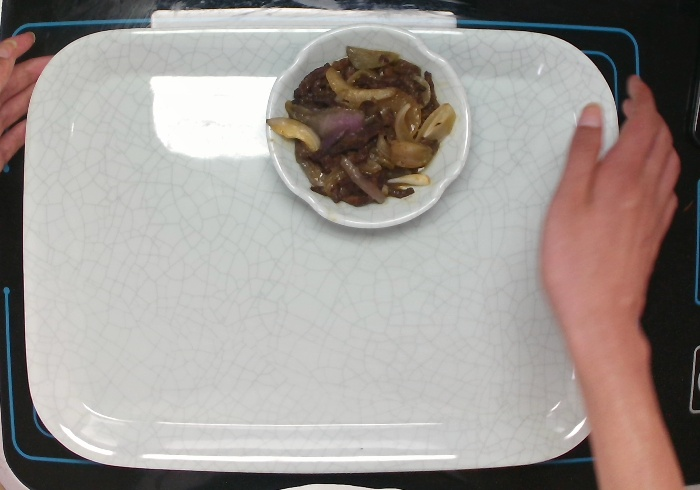JYsf-Ao_Yuan_Wan: (263, 21, 474, 230)
